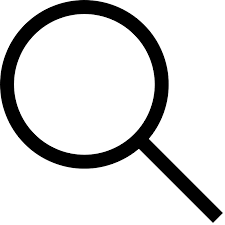searchIcon: (1, 1, 224, 225)
